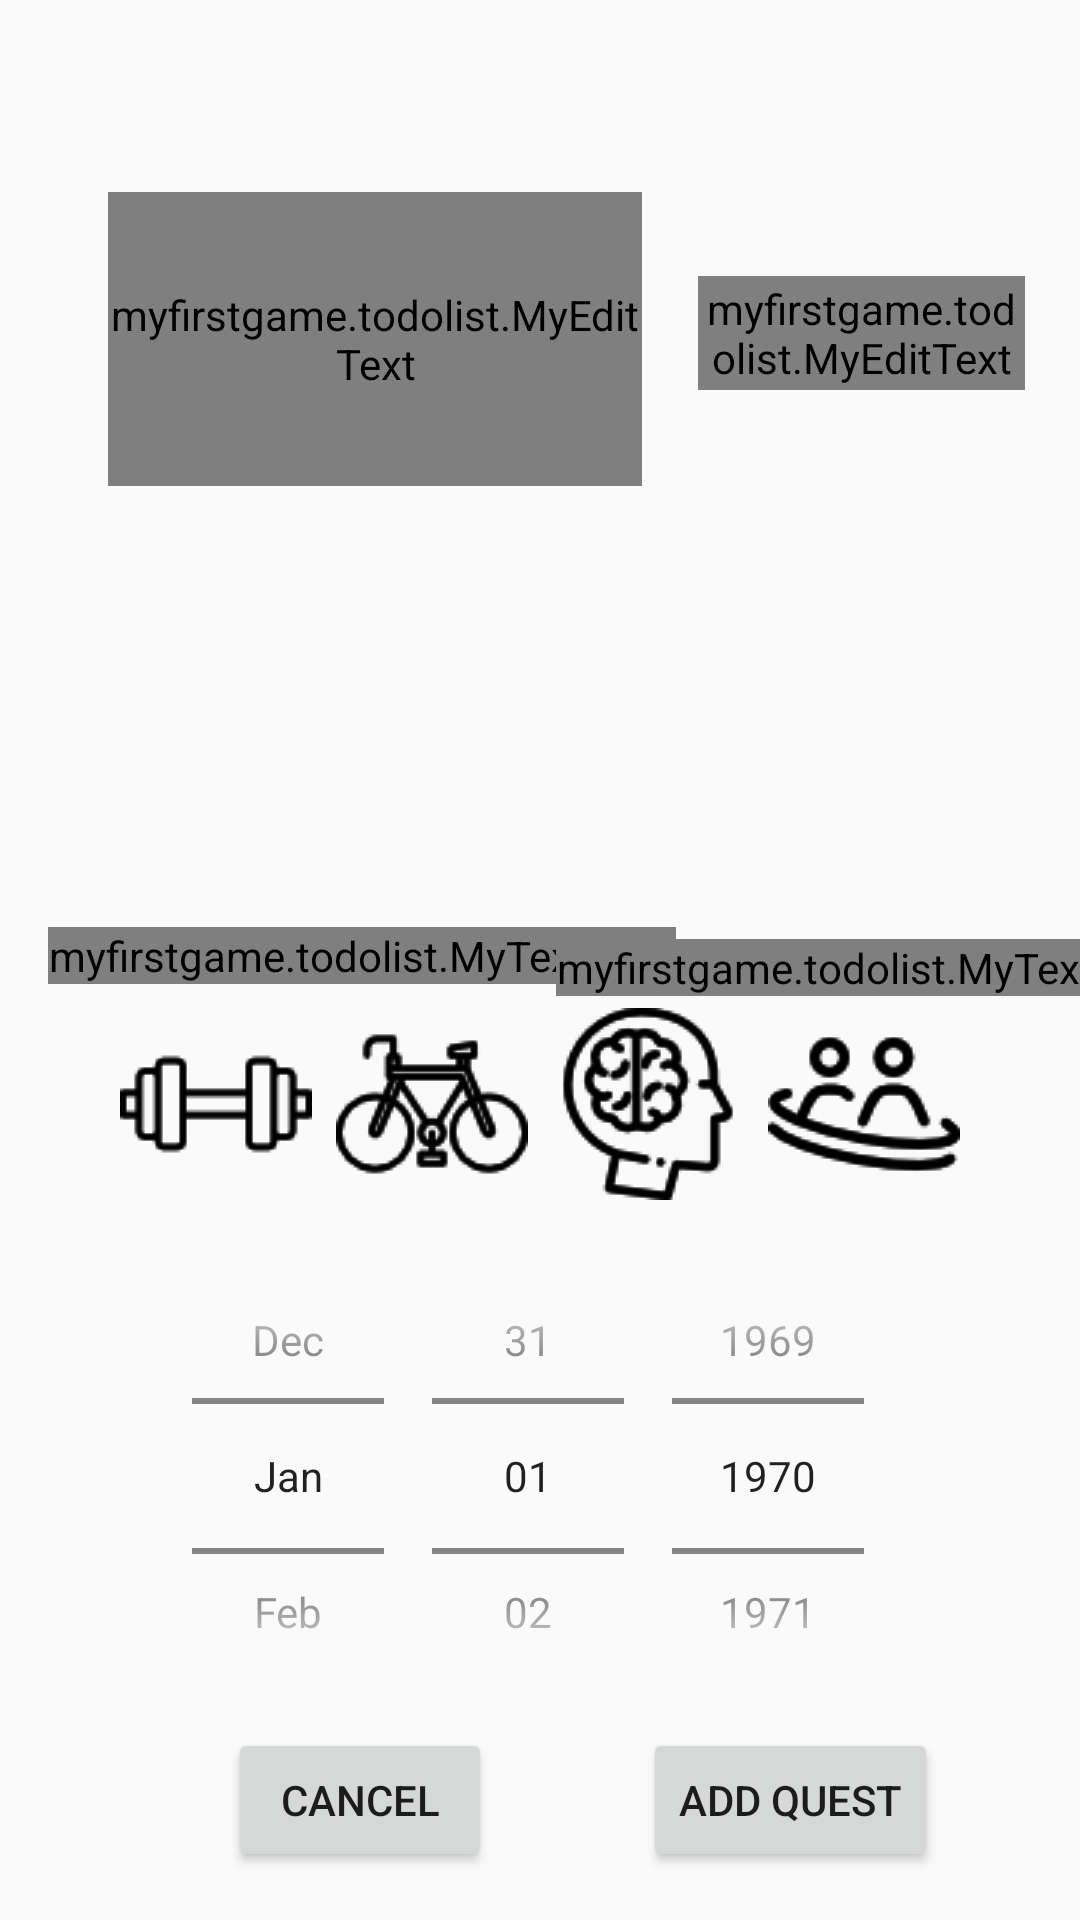

Where icons sit on this 1080 × 1920 app screen, as (x1=x1, y1=y1, x2=x2, y2=y2):
intelligence: (x1=563, y1=1008, x2=733, y2=1200)
social: (x1=768, y1=1037, x2=960, y2=1171)
stamina: (x1=336, y1=1034, x2=528, y2=1174)
strength: (x1=120, y1=1055, x2=312, y2=1153)
